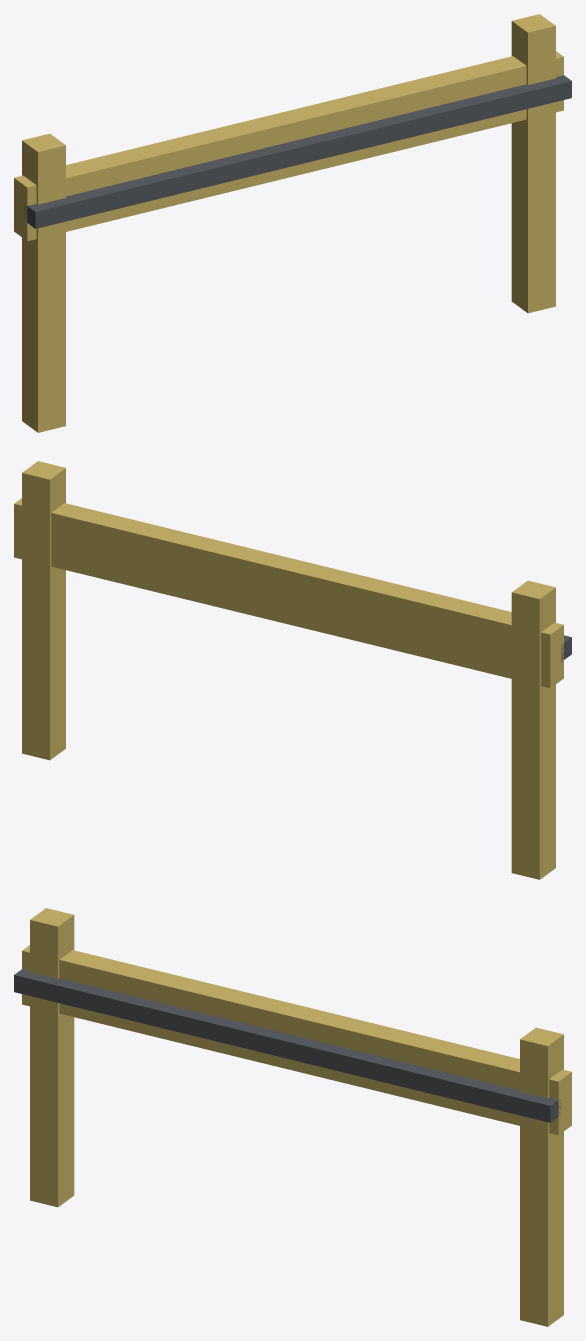
File: barrier_lod1.glb
The picture shows the model from 3 angles, top to bottom: view 1: azimuth 30°, elevation 25°; view 2: azimuth 150°, elevation 25°; view 3: azimuth 330°, elevation 25°; orthographic projection.
Parts seen in each view (by area): view 1: part_2, part_3, part_1, part_0; view 2: part_2, part_0, part_1; view 3: part_2, part_3, part_0, part_1.
Part boxes in pixels (box(x1,y1,x2,y2)): part_2: box(14, 51, 563, 241); part_3: box(24, 75, 571, 228); part_1: box(511, 14, 555, 313); part_0: box(22, 133, 65, 432); part_2: box(14, 498, 563, 688); part_0: box(511, 580, 555, 879); part_1: box(22, 461, 65, 760); part_2: box(22, 945, 571, 1135); part_3: box(14, 969, 560, 1122); part_0: box(30, 908, 74, 1207); part_1: box(520, 1027, 563, 1326).
Size of the model in its own units: 2.3 by 1.15 by 0.17.
